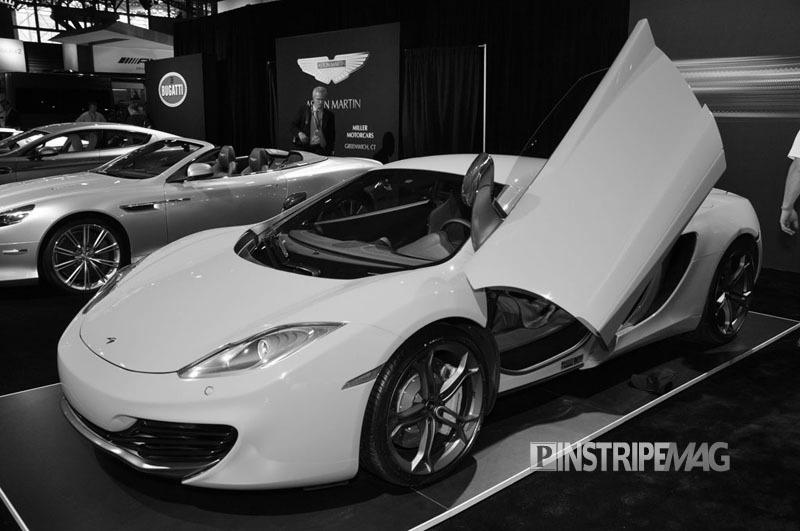car: (55, 16, 767, 500)
